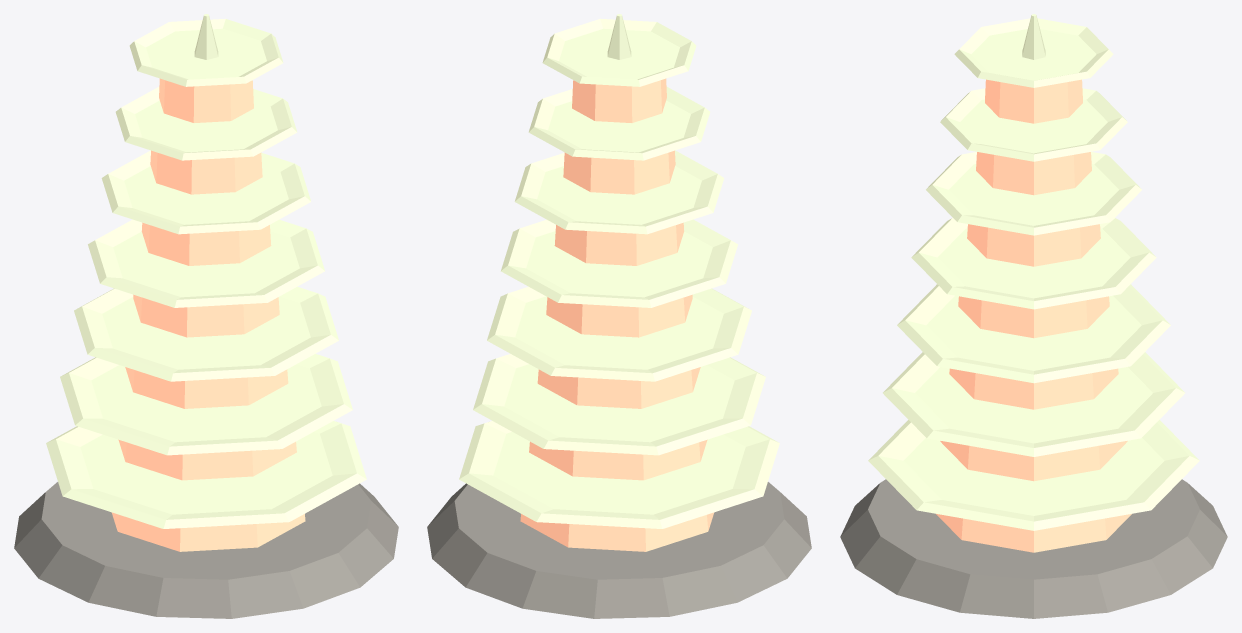
The model's file is chinese-garden.glb.
The picture shows the model from 3 angles, left to right: view 1: azimuth 30°, elevation 25°; view 2: azimuth 150°, elevation 25°; view 3: azimuth 270°, elevation 25°; orthographic projection.
Visible parts, largest first — view 1: terrace, roof-0, roof-1, roof-2, roof-3, roof-4, roof-5, roof-6, storey-2, storey-3, storey-1, storey-4 (+4 smaller); view 2: terrace, roof-0, roof-1, roof-2, roof-3, roof-4, roof-5, roof-6, storey-2, storey-3, storey-1, storey-4 (+4 smaller); view 3: terrace, roof-0, roof-1, roof-2, roof-3, roof-4, roof-5, roof-6, storey-2, storey-3, storey-1, storey-4 (+4 smaller).
Part boxes in pixels (left/top/right/bottom): terrace: left=14, top=482, right=398, bottom=618; roof-0: left=46, top=421, right=366, bottom=528; roof-1: left=60, top=354, right=352, bottom=455; roof-2: left=74, top=286, right=338, bottom=381; roof-3: left=88, top=219, right=324, bottom=307; roof-4: left=101, top=150, right=311, bottom=234; roof-5: left=115, top=87, right=297, bottom=160; roof-6: left=129, top=18, right=283, bottom=86; storey-2: left=125, top=367, right=288, bottom=408; storey-3: left=133, top=294, right=279, bottom=337; storey-1: left=118, top=439, right=296, bottom=480; storey-4: left=141, top=222, right=271, bottom=265; terrace: left=427, top=482, right=811, bottom=618; roof-0: left=459, top=421, right=779, bottom=528; roof-1: left=473, top=354, right=765, bottom=455; roof-2: left=487, top=286, right=751, bottom=381; roof-3: left=501, top=219, right=737, bottom=307; roof-4: left=514, top=150, right=724, bottom=234; roof-5: left=528, top=87, right=710, bottom=160; roof-6: left=542, top=18, right=696, bottom=86; storey-2: left=537, top=367, right=700, bottom=408; storey-3: left=546, top=294, right=692, bottom=337; storey-1: left=529, top=439, right=707, bottom=480; storey-4: left=554, top=222, right=684, bottom=265; terrace: left=840, top=479, right=1227, bottom=618; roof-0: left=868, top=420, right=1199, bottom=530; roof-1: left=883, top=352, right=1184, bottom=456; roof-2: left=897, top=284, right=1170, bottom=383; roof-3: left=911, top=218, right=1156, bottom=309; roof-4: left=926, top=152, right=1141, bottom=235; roof-5: left=940, top=88, right=1127, bottom=161; roof-6: left=954, top=18, right=1113, bottom=87; storey-2: left=949, top=368, right=1118, bottom=409; storey-3: left=958, top=296, right=1109, bottom=338; storey-1: left=940, top=441, right=1127, bottom=481; storey-4: left=967, top=224, right=1100, bottom=266.
Bounding box in the file's own units: 28 × 41.6 × 28.
